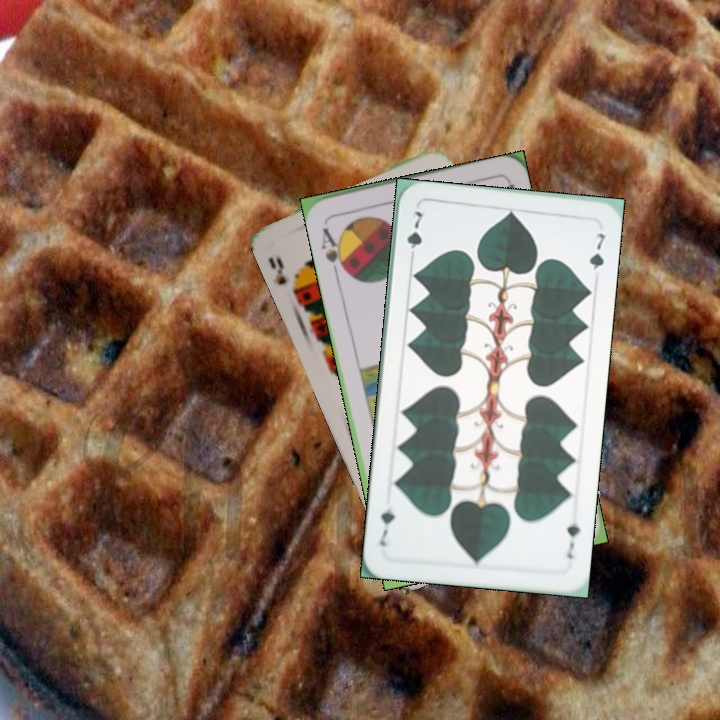G7: (402, 207, 426, 264), (563, 511, 583, 561)
S9: (264, 252, 305, 297)
SA: (317, 223, 350, 277)
